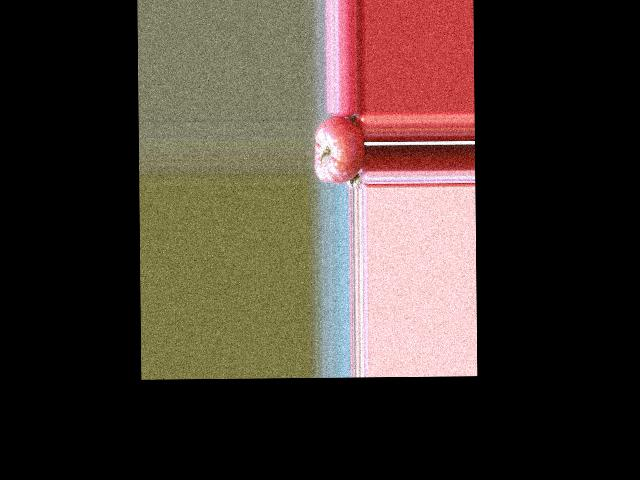tomato: (314, 114, 365, 183)
